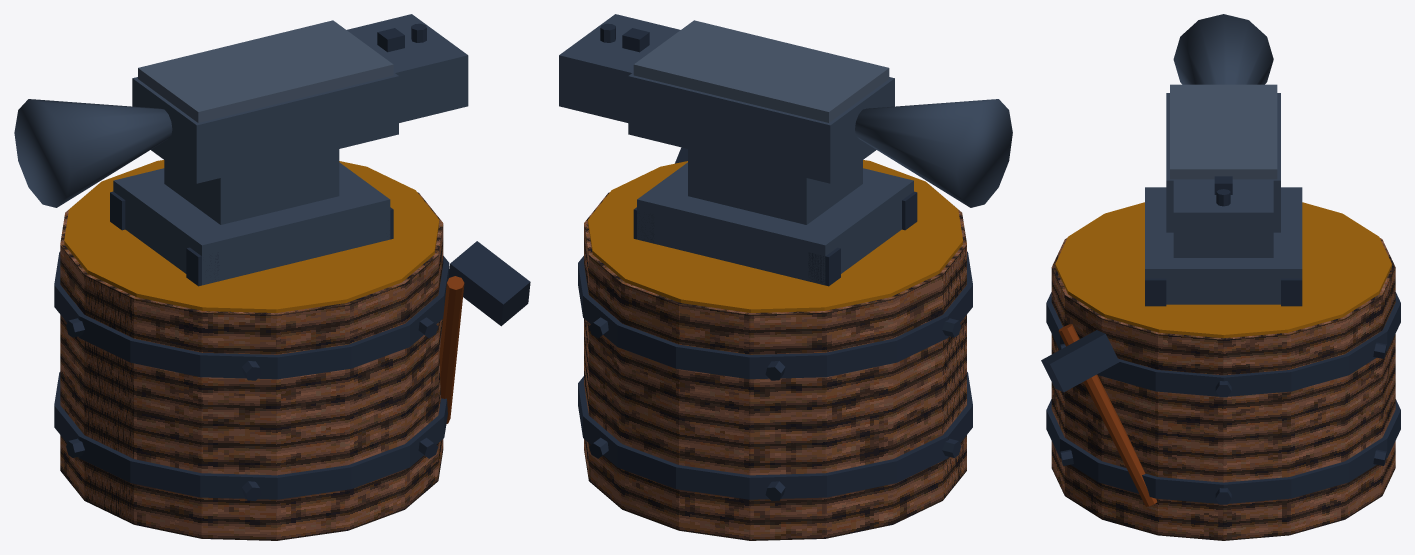
Rendered from yunque_forja.glb.
3 renders of one model, left to right at view 1: azimuth 30°, elevation 25°; view 2: azimuth 150°, elevation 25°; view 3: azimuth 270°, elevation 25°, orthographic. The views are drawn at different scales.
Visible parts, largest first — view 1: Cylinder, Cylinder.001, Cube, Cube.006, Cube.007, Cone, Cylinder.009, Cylinder.002, Cube.005, Cube.008, Cube.010, Cylinder.017; view 2: Cylinder, Cylinder.001, Cube, Cube.006, Cube.007, Cone, Cylinder.002, Cylinder.009, Cube.005, Cube.008, Cube.003, Cube.009; view 3: Cylinder, Cylinder.001, Cube.007, Cube, Cylinder.002, Cube.008, Cylinder.009, Cone, Cube.010, Cylinder.017, Cube.006, Cube.002 (+1 smaller).
Boxes of the visible parts, box(x1,y1,x2,y2) form: Cylinder: box(60, 192, 443, 540); Cylinder.001: box(64, 160, 439, 312); Cube: box(113, 162, 390, 285); Cube.006: box(132, 73, 398, 183); Cube.007: box(138, 20, 393, 122); Cone: box(14, 99, 172, 207); Cylinder.009: box(54, 251, 449, 379); Cylinder.002: box(54, 372, 447, 499); Cube.005: box(164, 149, 339, 224); Cube.008: box(347, 14, 468, 122); Cube.010: box(448, 241, 530, 326); Cylinder.017: box(439, 276, 464, 423); Cylinder: box(584, 192, 966, 540); Cylinder.001: box(588, 160, 962, 312); Cube: box(637, 162, 913, 285); Cube.006: box(628, 73, 894, 183); Cube.007: box(633, 20, 889, 122); Cone: box(855, 99, 1012, 207); Cylinder.002: box(578, 372, 972, 499); Cylinder.009: box(578, 251, 972, 379); Cube.005: box(688, 149, 862, 224); Cube.008: box(559, 14, 680, 122); Cube.003: box(808, 247, 840, 286); Cube.009: box(622, 28, 649, 52); Cylinder: box(1051, 237, 1395, 540); Cylinder.001: box(1055, 202, 1391, 338); Cube.007: box(1170, 84, 1277, 179); Cube: box(1145, 187, 1302, 304); Cylinder.002: box(1046, 399, 1400, 503); Cube.008: box(1173, 179, 1273, 257); Cylinder.009: box(1046, 292, 1400, 396); Cone: box(1173, 14, 1273, 84); Cube.010: box(1041, 330, 1119, 392); Cylinder.017: box(1058, 324, 1157, 506); Cube.006: box(1166, 93, 1280, 232); Cube.002: box(1145, 278, 1166, 306).
Bounding box in the file's own units: 1.14 × 1.12 × 1.
6 materials, 1 textured.
